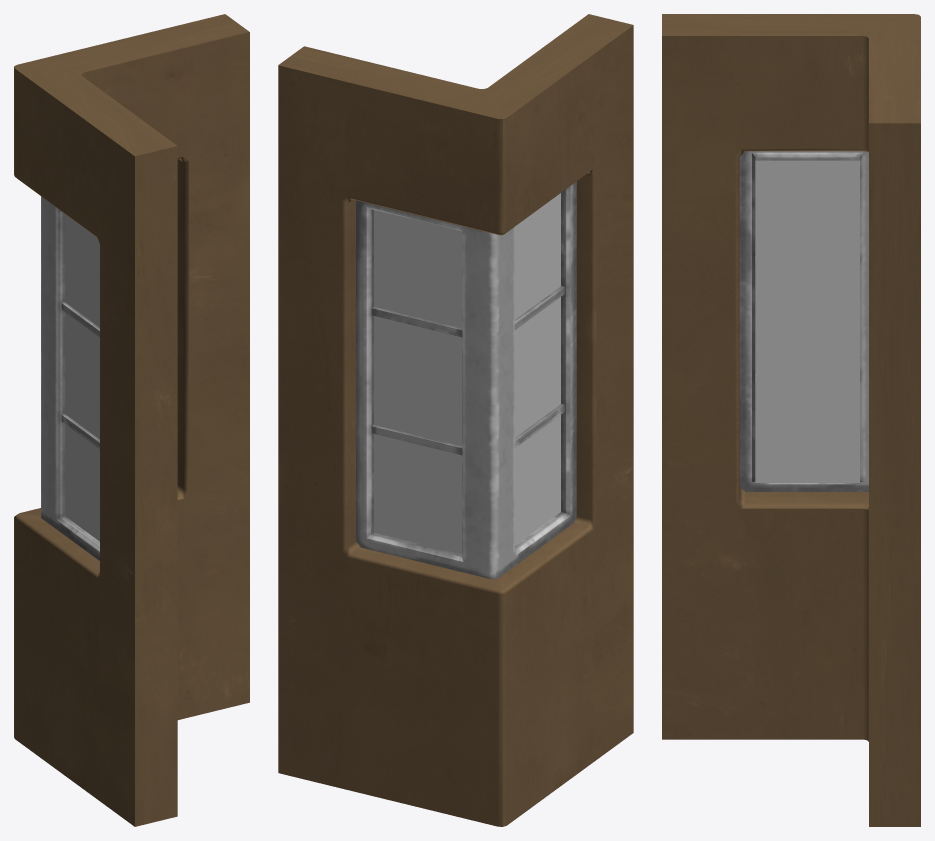
Rendered from SM_Building01Wall04R.fbx.
3 views of the same model, side by side, from view 1: azimuth 30°, elevation 25°; view 2: azimuth 150°, elevation 25°; view 3: azimuth 270°, elevation 25° (orthographic). The views are drawn at different scales.
Visible parts, largest first — view 1: SM_Building01Wall04R_LOD0; view 2: SM_Building01Wall04R_LOD0; view 3: SM_Building01Wall04R_LOD0.
Part boxes in pixels (left/top/right/bottom): SM_Building01Wall04R_LOD0: left=14, top=14, right=249, bottom=826; SM_Building01Wall04R_LOD0: left=278, top=14, right=633, bottom=826; SM_Building01Wall04R_LOD0: left=662, top=14, right=920, bottom=826.
Bounding box in the file's own units: 100 × 100 × 300.
3 materials, 2 textured.
